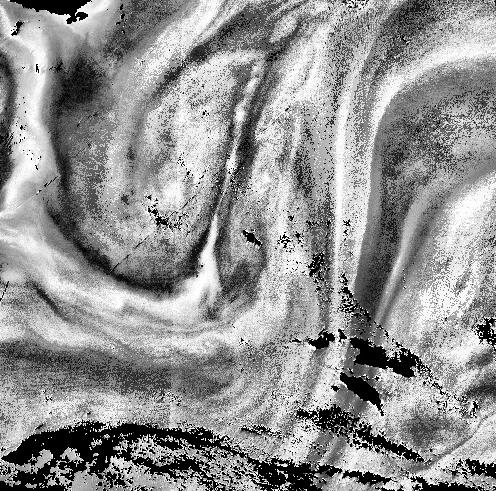CE: (38, 12, 281, 330)
